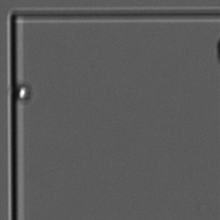Living Cell: (13, 84, 36, 110)
